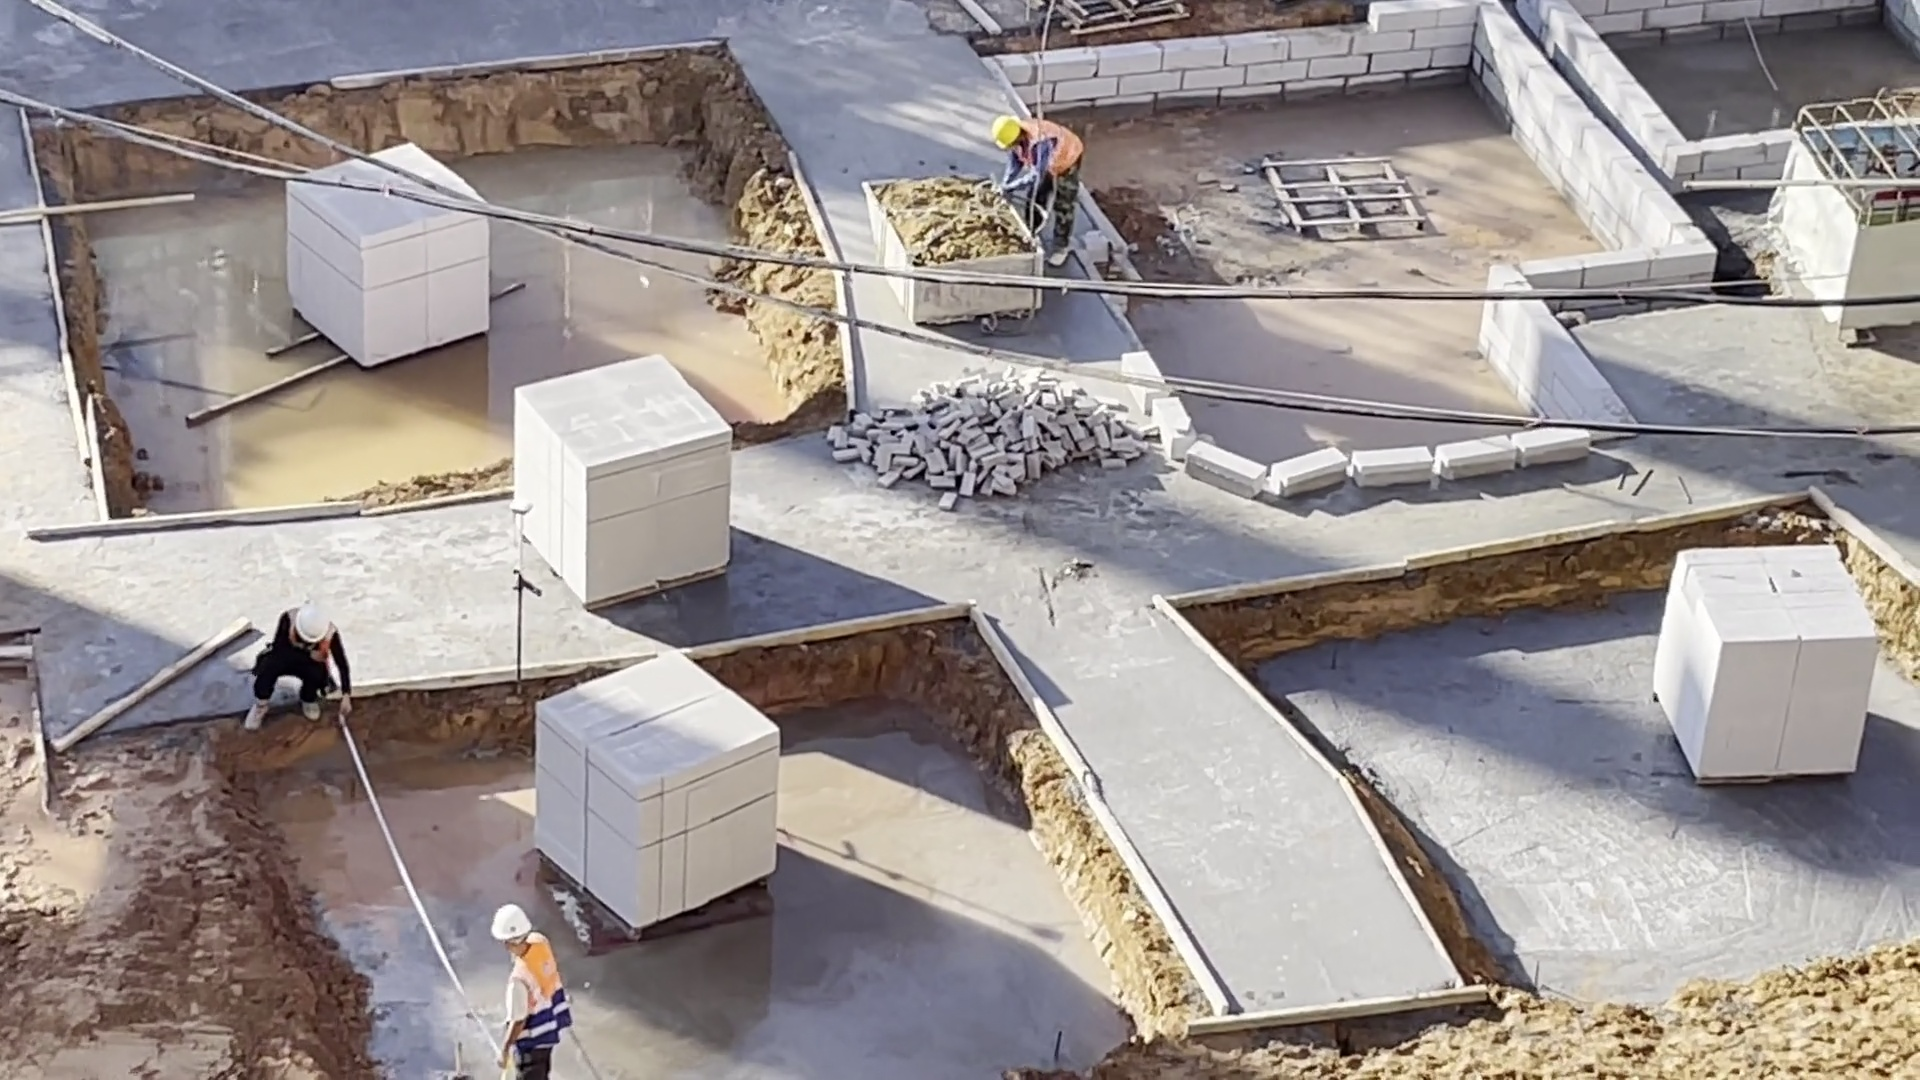brick: (535, 649, 798, 945), (504, 342, 749, 606), (1647, 541, 1884, 786), (280, 215, 497, 375)
helmet: (488, 904, 537, 948), (989, 115, 1023, 153), (299, 605, 328, 645)
hopper: (858, 169, 1004, 269)
person: (488, 900, 573, 1080), (986, 113, 1085, 269), (249, 601, 362, 728)
vest: (507, 939, 575, 1057), (1019, 118, 1084, 173)
